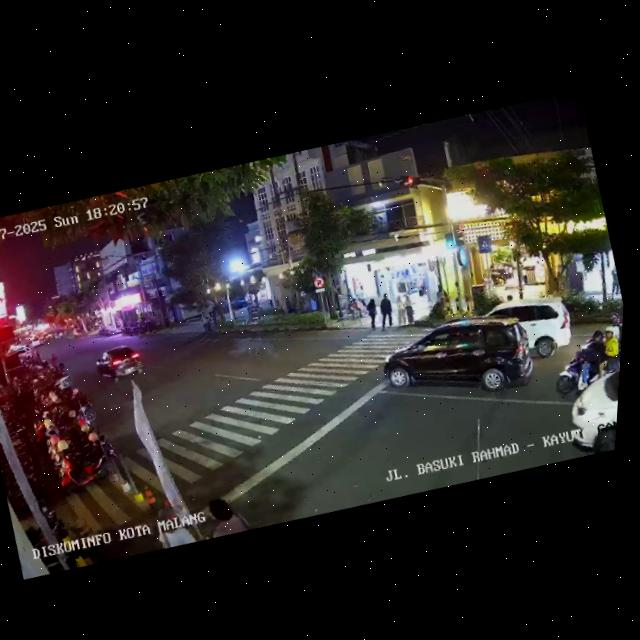car: (372, 302, 543, 423), (467, 284, 580, 376), (554, 356, 620, 458), (92, 340, 150, 390), (30, 337, 42, 348)
motorcycle: (541, 321, 622, 399)
person: (196, 487, 258, 541), (147, 499, 207, 551), (371, 291, 399, 335), (391, 293, 412, 329), (363, 297, 383, 332), (400, 291, 418, 328), (604, 264, 622, 296), (344, 295, 364, 320), (356, 283, 371, 307), (281, 293, 296, 315), (198, 309, 212, 332), (343, 286, 356, 306)
